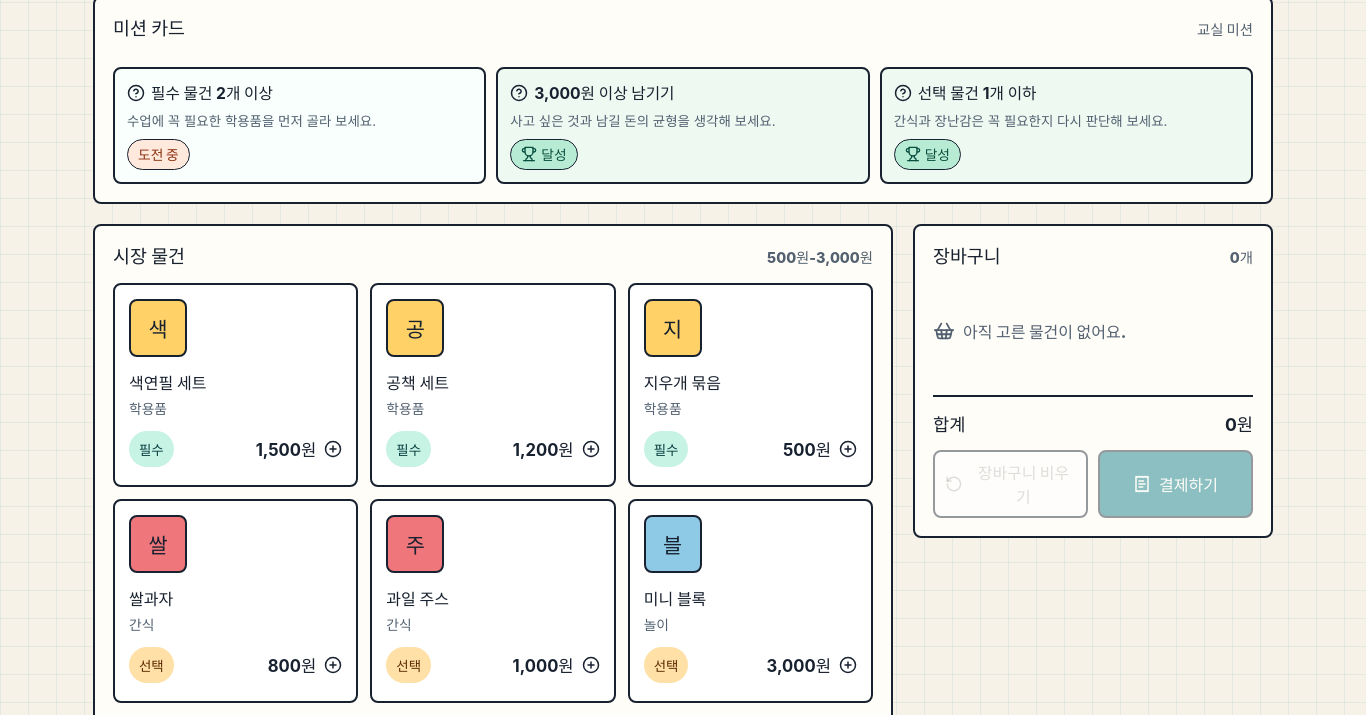
it: Smart Flea Market Simulator › shows mission cards and updates completion status after shopping
(page scrolled)
expect the text "필수 물건 2개 이상" is shown: met, box left=151, top=81, right=273, bottom=104
expect the text "3,000원 이상 남기기" is shown: met, box left=534, top=81, right=674, bottom=104
Click the button with aria-label "색연필 세트 학용품 필수 1,500원 담기" at (236, 385), box left=113, top=283, right=358, bottom=487
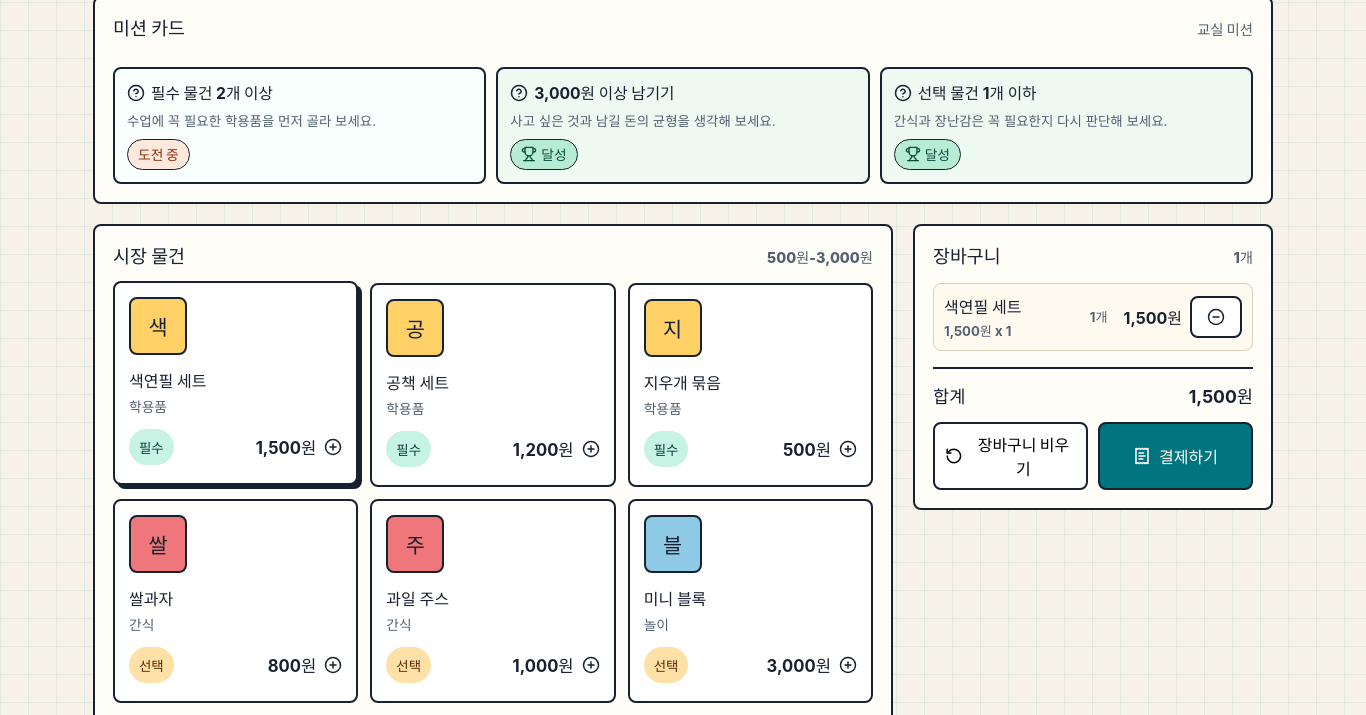
Click the button with aria-label "공책 세트 학용품 필수 1,200원 담기" at (493, 385), box left=370, top=283, right=616, bottom=487
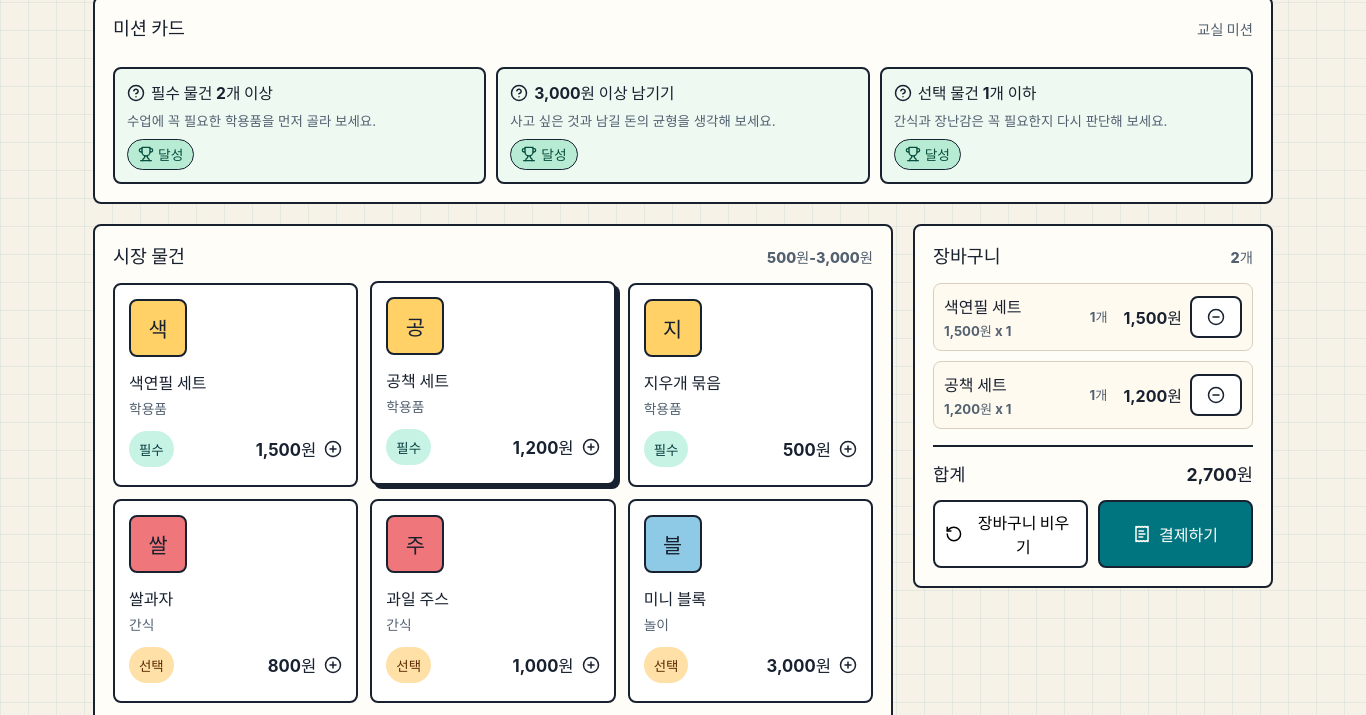
expect the list item "3,000원 이상 남기기" shows "달성": met, box left=541, top=147, right=567, bottom=163
expect the list item "필수 물건 2개 이상" shows "달성": met, box left=158, top=147, right=183, bottom=163
